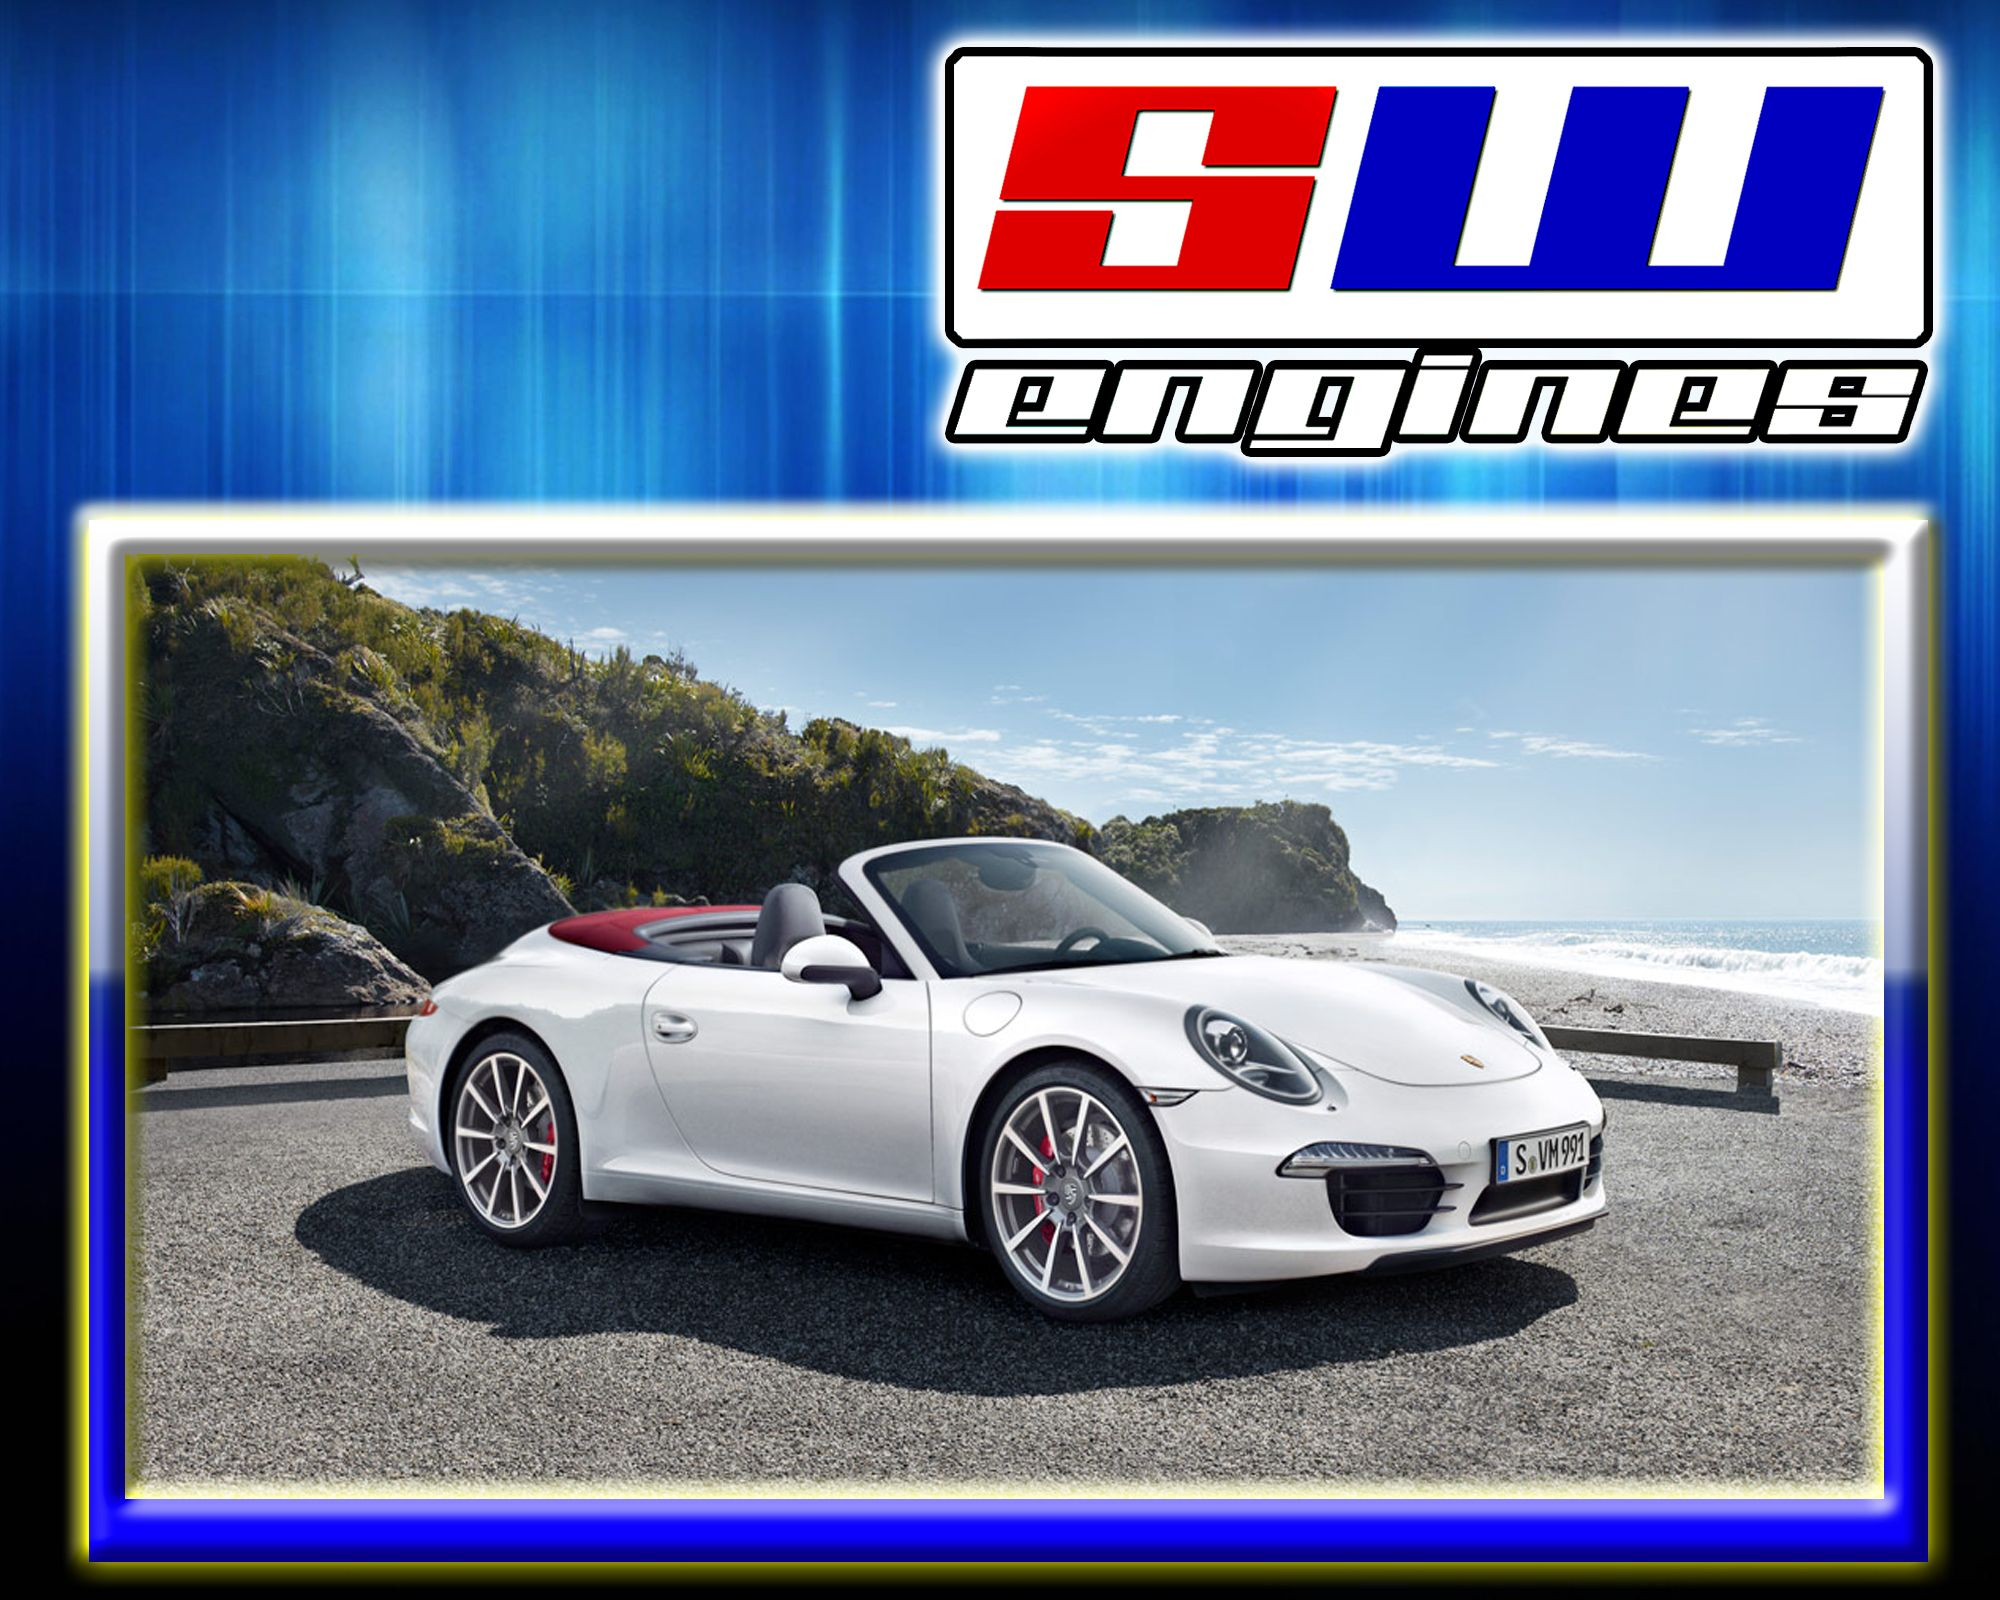Car: (323, 691, 1633, 1332)
